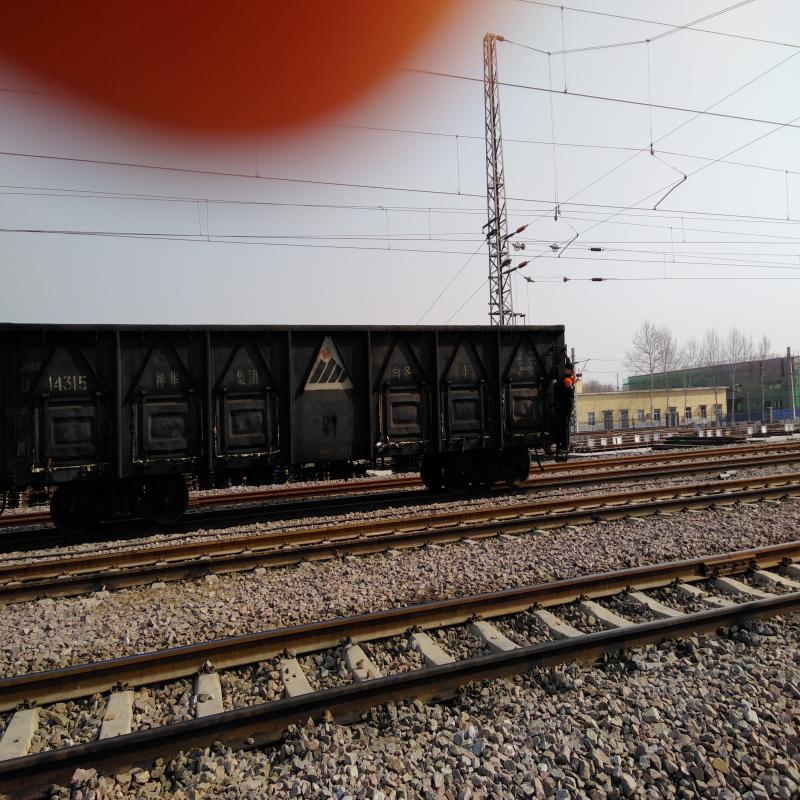train: (12, 316, 230, 515)
